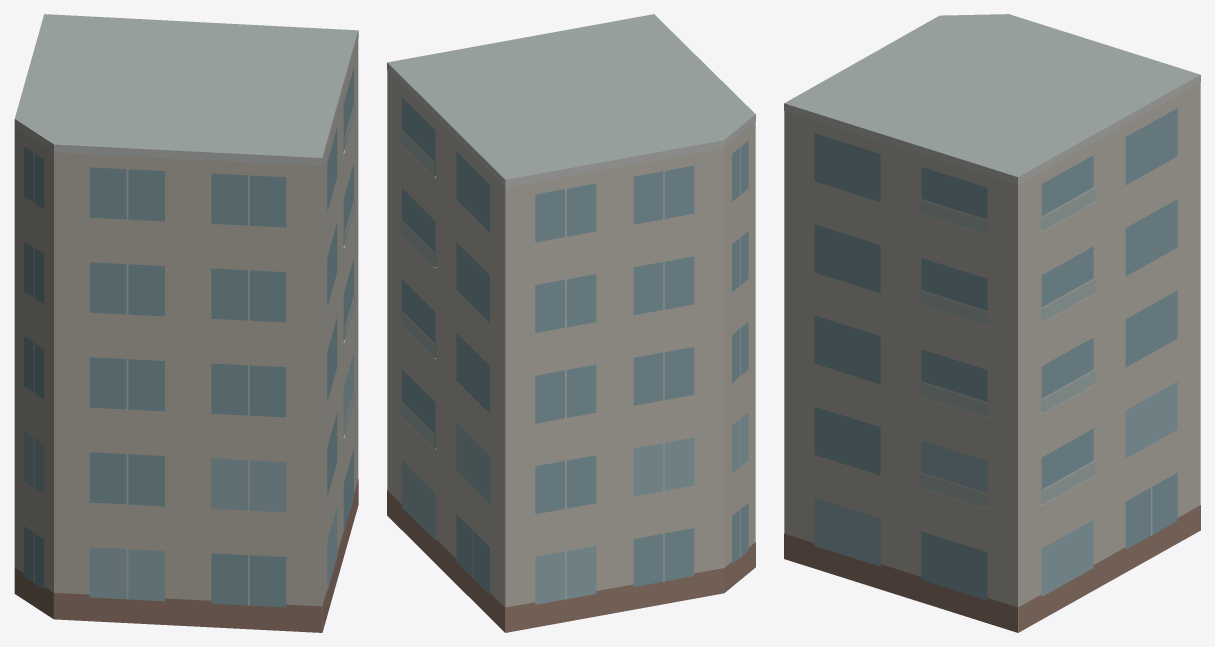
Rendered from survey-upis-32637217.glb.
3 views of the same model, side by side, from view 1: azimuth 30°, elevation 25°; view 2: azimuth 150°, elevation 25°; view 3: azimuth 270°, elevation 25° (orthographic). The views are drawn at different scales.
Visible parts, largest first — view 1: survey-upis-32637217.tmp; view 2: survey-upis-32637217.tmp; view 3: survey-upis-32637217.tmp.
Part boxes in pixels (<box>): survey-upis-32637217.tmp: <box>14,14,358,632</box>; survey-upis-32637217.tmp: <box>387,14,755,632</box>; survey-upis-32637217.tmp: <box>784,14,1200,632</box>.
Size of the model in its own units: 10.91 by 14.2 by 11.78.
